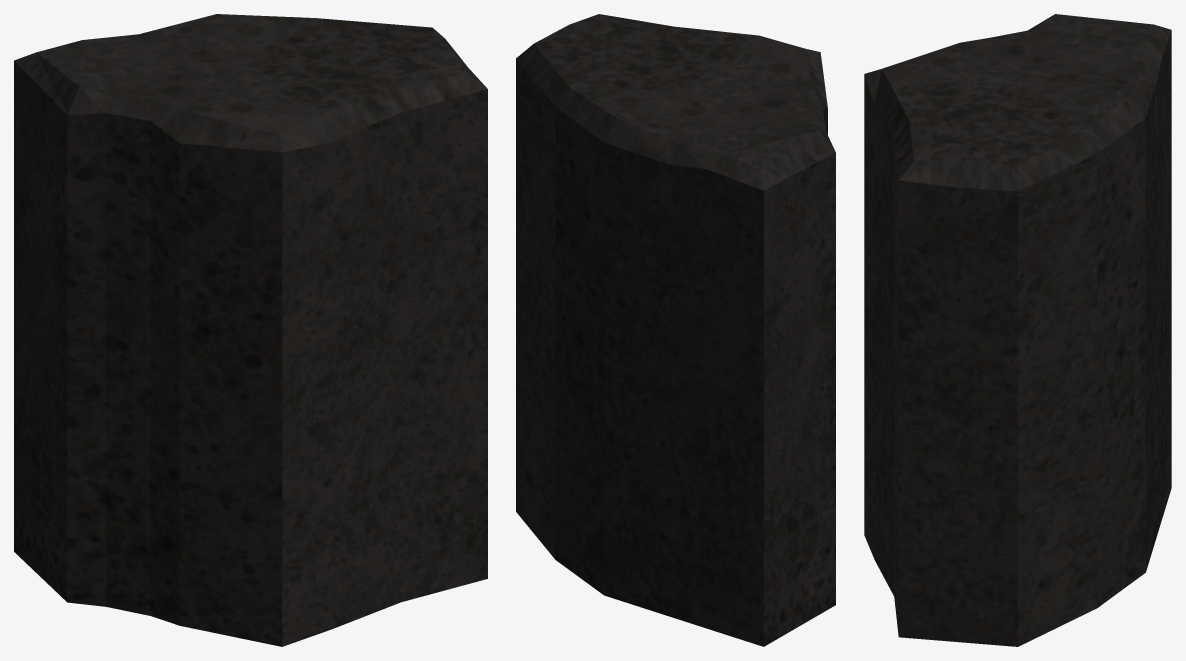
File: TrapFloorS02.fbx
3 renders of one model, left to right at view 1: azimuth 30°, elevation 25°; view 2: azimuth 150°, elevation 25°; view 3: azimuth 270°, elevation 25°, orthographic. The views are drawn at different scales.
Parts seen in each view (by area): view 1: SM_ENV_NATURE_Cave_Floor_Trap_07.mo; view 2: SM_ENV_NATURE_Cave_Floor_Trap_07.mo; view 3: SM_ENV_NATURE_Cave_Floor_Trap_07.mo.
Part boxes in pixels (bbox=[...]): SM_ENV_NATURE_Cave_Floor_Trap_07.mo: bbox=[14, 14, 487, 646]; SM_ENV_NATURE_Cave_Floor_Trap_07.mo: bbox=[516, 14, 835, 646]; SM_ENV_NATURE_Cave_Floor_Trap_07.mo: bbox=[864, 14, 1171, 646].
Size of the model in its own units: 136 by 183 by 107.
Materials: 1 (1 with a texture image).
